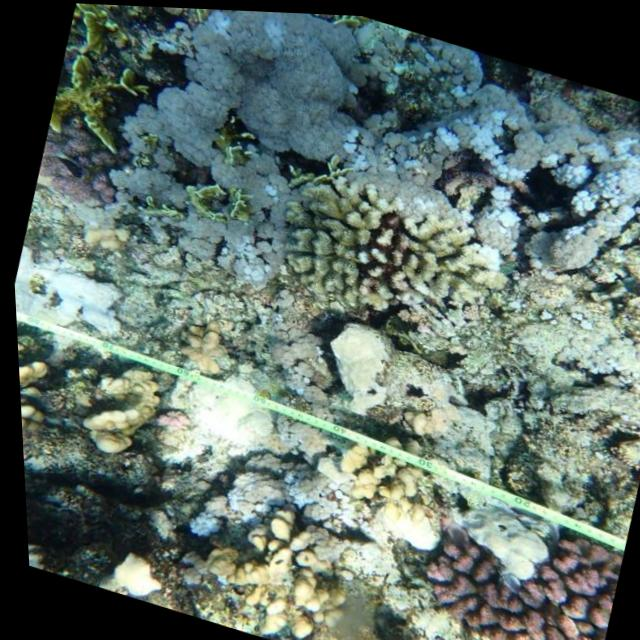Bleached Coral: (86, 3, 391, 276), (340, 19, 640, 292), (217, 441, 434, 589), (139, 350, 290, 489), (10, 243, 120, 361), (299, 306, 409, 414), (450, 477, 548, 585), (153, 485, 236, 565)
Healthy Coral: (394, 491, 614, 640)
